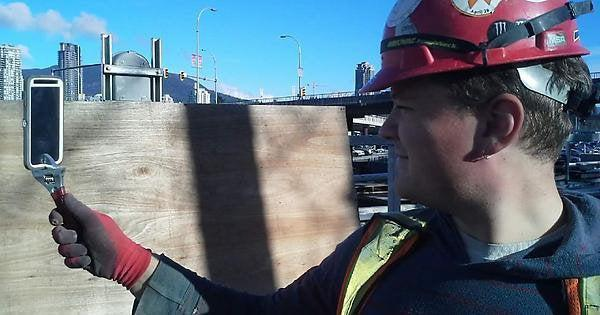helmet: (358, 0, 590, 93)
